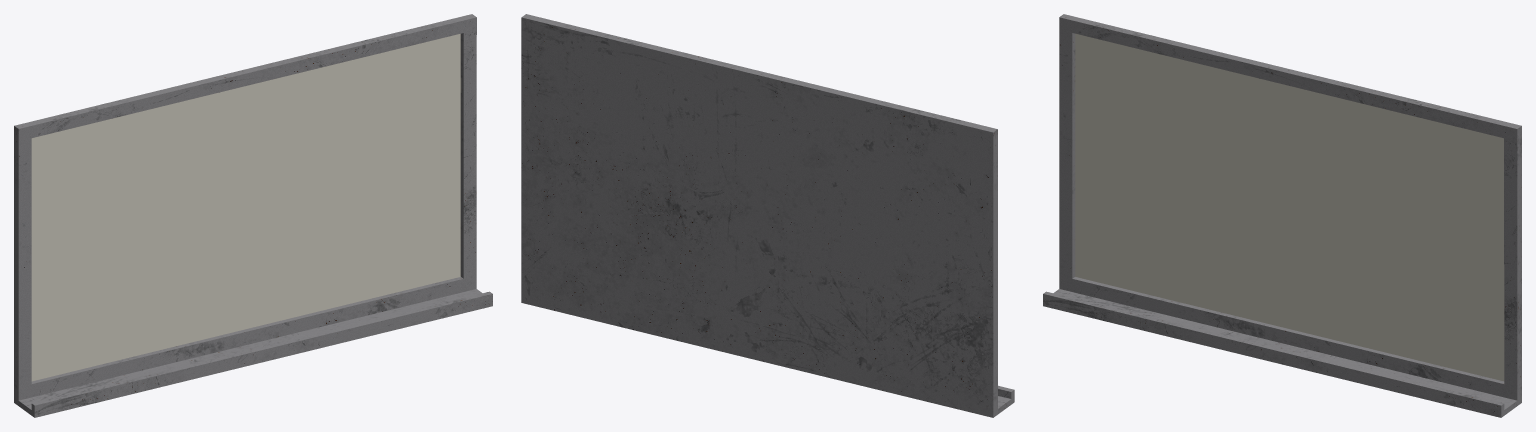
The model's file is whiteboard.FBX.
3 renders of one model, left to right at view 1: azimuth 30°, elevation 25°; view 2: azimuth 150°, elevation 25°; view 3: azimuth 330°, elevation 25°, orthographic. The views are drawn at different scales.
Parts seen in each view (by area): view 1: whiteboard_lp; view 2: whiteboard_lp; view 3: whiteboard_lp.
Boxes of the visible parts, bbox=[...] form: whiteboard_lp: bbox=[14, 14, 492, 417]; whiteboard_lp: bbox=[521, 14, 1014, 417]; whiteboard_lp: bbox=[1043, 14, 1521, 417].
Size of the model in its own units: 149 by 86.14 by 11.6.
Materials: 1 (1 with a texture image).
